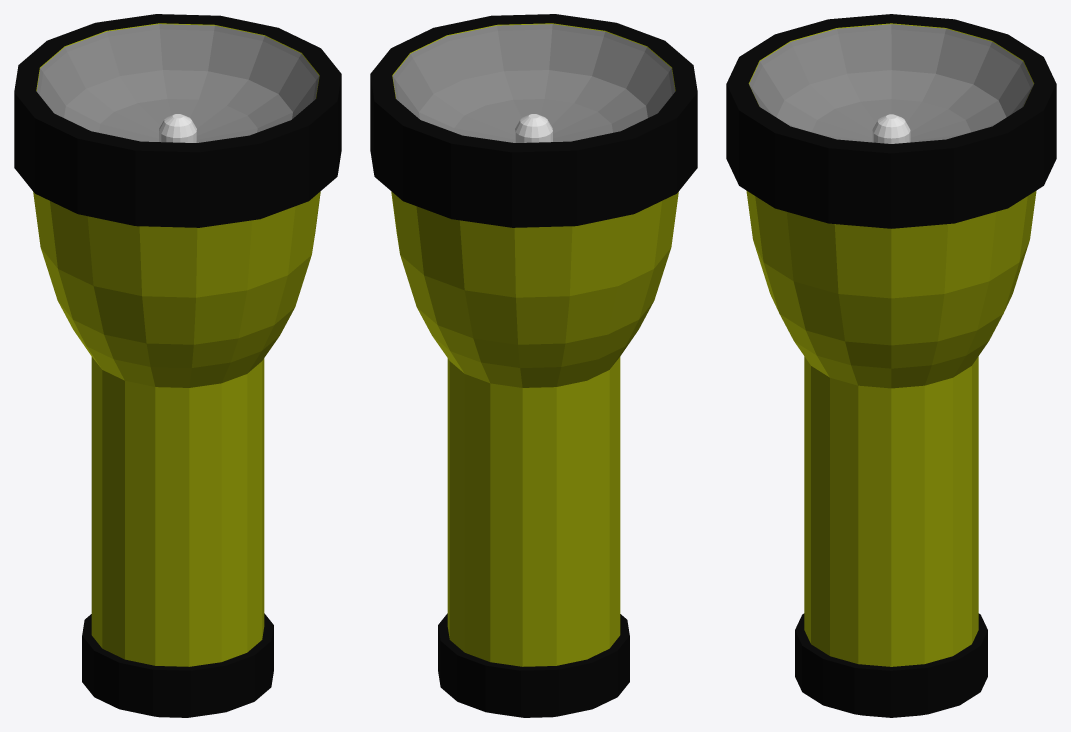
File: linterna 1.fbx
3 renders of one model, left to right at view 1: azimuth 30°, elevation 25°; view 2: azimuth 150°, elevation 25°; view 3: azimuth 270°, elevation 25°, orthographic.
Visible parts, largest first — view 1: Cylinder; view 2: Cylinder; view 3: Cylinder.
Boxes of the visible parts, left/top/right/bottom form: Cylinder: left=14, top=14, right=341, bottom=717; Cylinder: left=370, top=14, right=697, bottom=717; Cylinder: left=726, top=14, right=1056, bottom=717.
Size of the model in its own units: 342 by 700 by 342.
